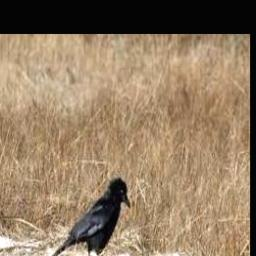Crow: (51, 175, 130, 256)
